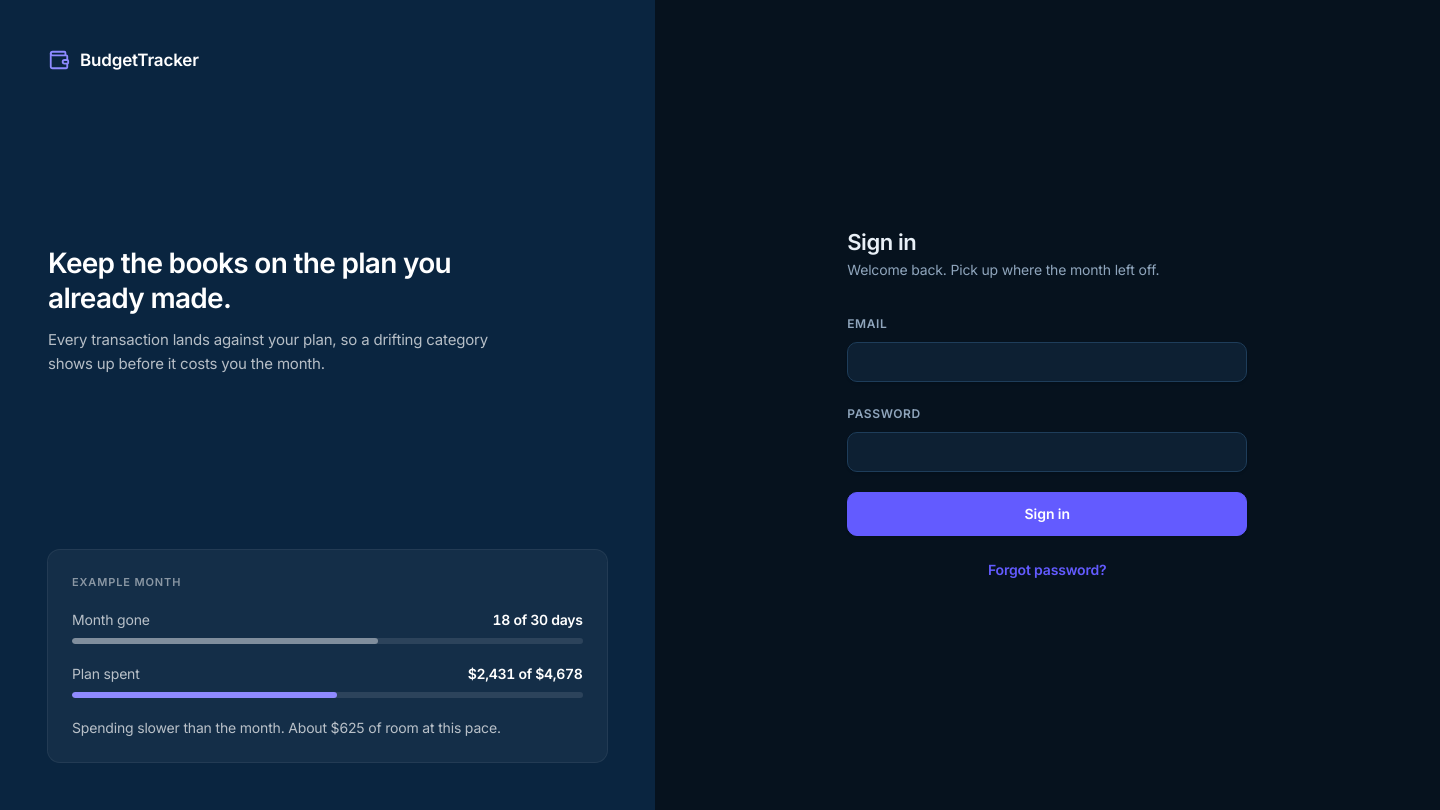
LoginPage › shows the setup key and link the first time
The image size is (1440, 810).
Type "me@example.com" into the field labelled "Email" at (1047, 362), box [847, 342, 1247, 382]
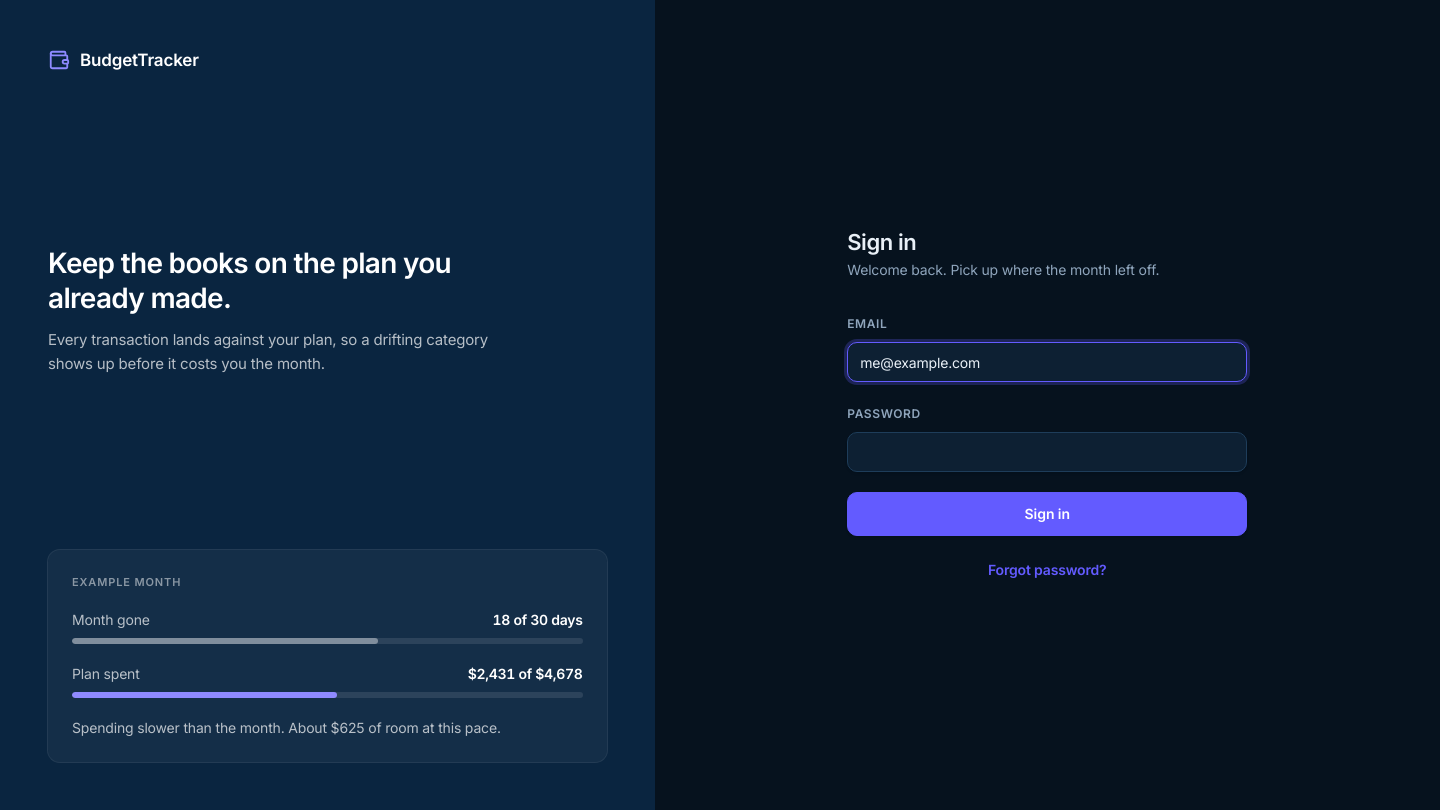
Type "hunter22" into the password field labelled "Password" at (1047, 452), box [847, 432, 1247, 472]
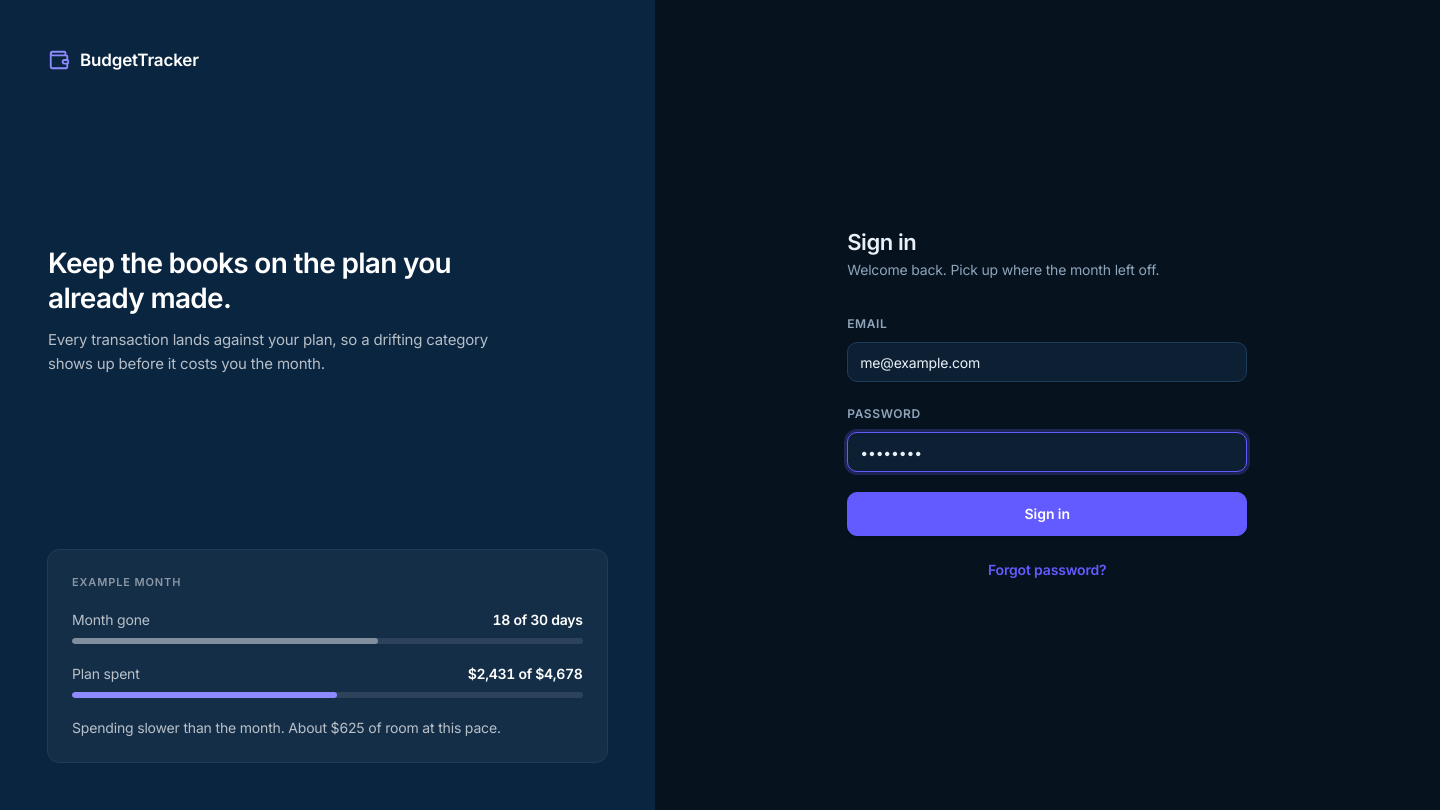
Click the button "Sign in" at (1047, 514), box [847, 492, 1247, 536]
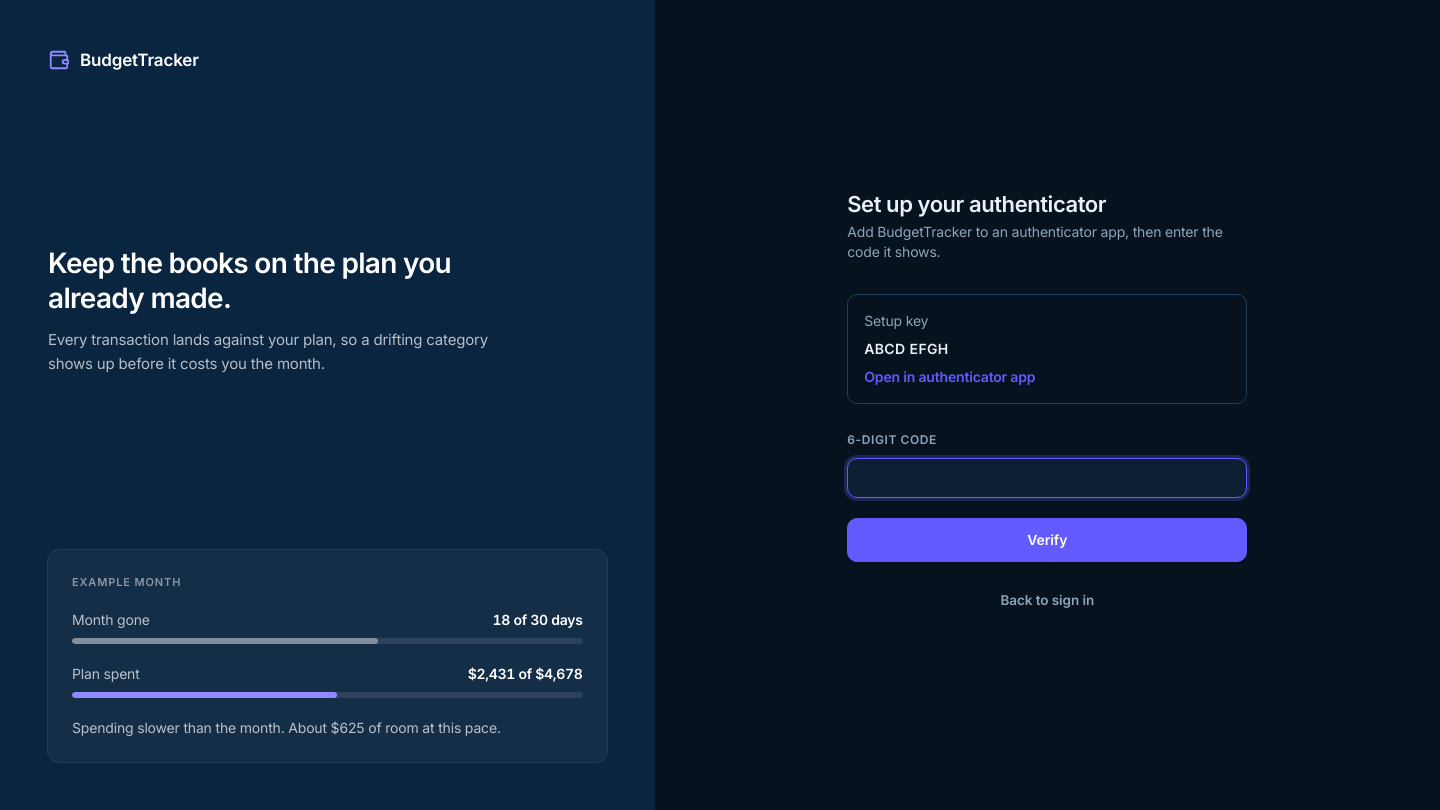
expect the text "ABCD EFGH" is shown: met, box [864, 340, 949, 357]
